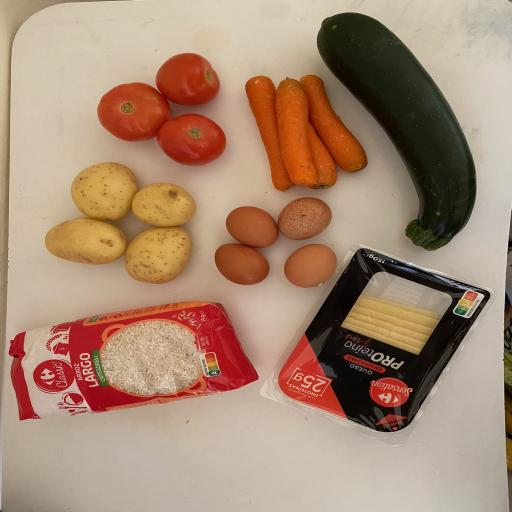carrot: (277, 65, 384, 196), (265, 68, 357, 194), (238, 63, 308, 200)
cheese: (239, 236, 503, 459)
courgette: (286, 5, 497, 256)
egg: (257, 186, 347, 258), (198, 232, 292, 296), (212, 192, 295, 259), (274, 233, 352, 300)
potato: (51, 151, 164, 240), (28, 197, 148, 278), (108, 218, 216, 294), (116, 180, 220, 228)
rice: (0, 289, 269, 438)
tomato: (82, 69, 179, 160), (140, 45, 258, 112), (146, 106, 236, 176)
